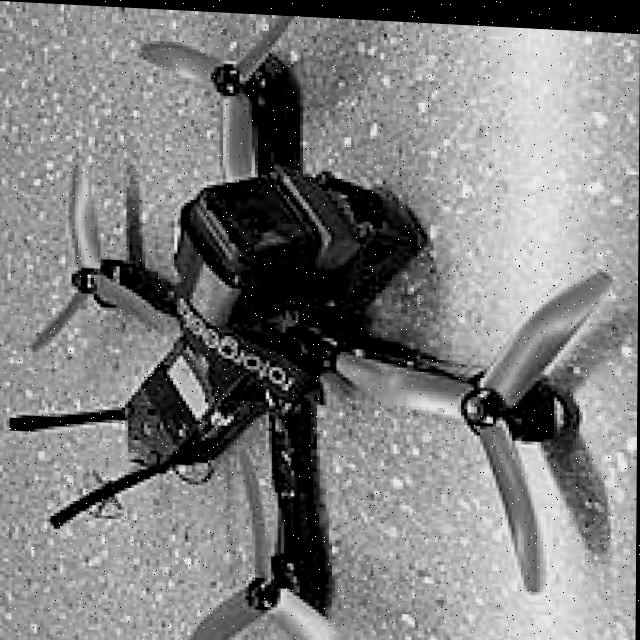drone: (40, 2, 623, 640)
